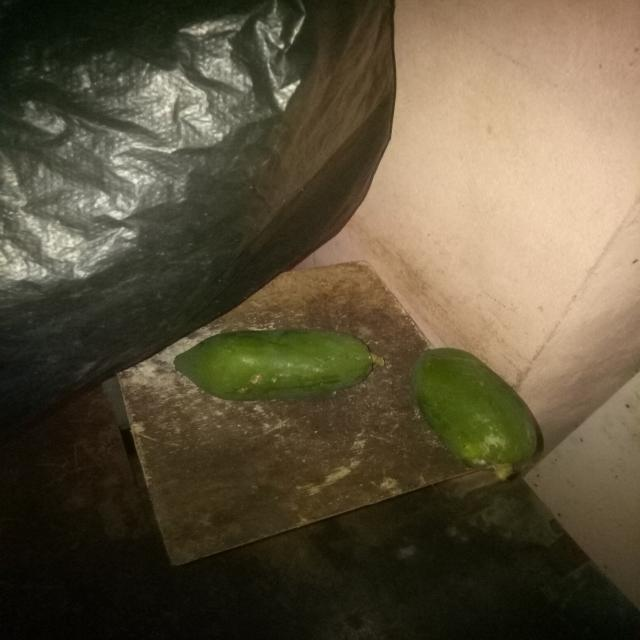Pepaya unrippen: (404, 338, 540, 482), (157, 323, 377, 402)
